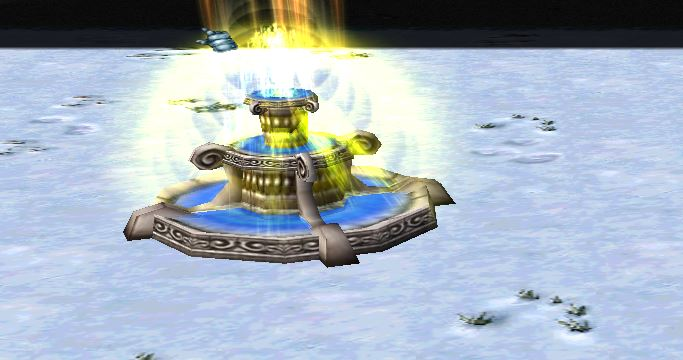sunwell: (128, 56, 455, 260)
